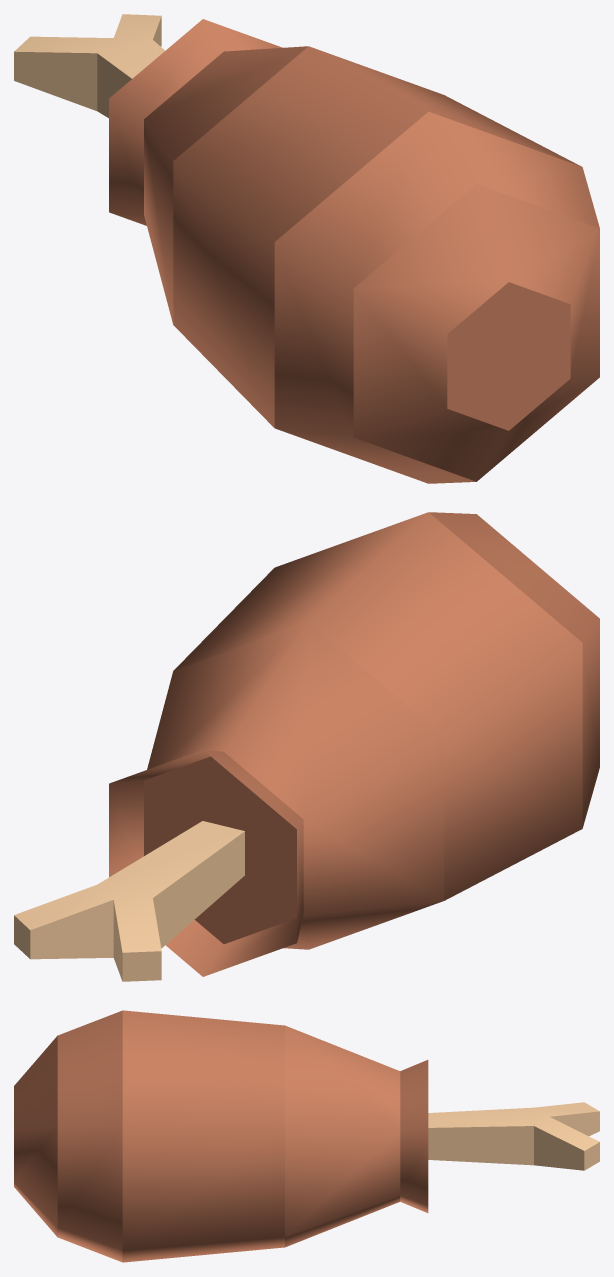
File: wholerHam.dae
The picture shows the model from 3 angles, top to bottom: view 1: azimuth 30°, elevation 25°; view 2: azimuth 150°, elevation 25°; view 3: azimuth 270°, elevation 25°; orthographic projection. The views are drawn at different scales.
Visible parts, largest first — view 1: wholerHam; view 2: wholerHam; view 3: wholerHam.
Boxes of the visible parts, x1,y1,x2,y2 form: wholerHam: (14, 14, 599, 483); wholerHam: (14, 512, 599, 981); wholerHam: (14, 1010, 599, 1262).
Size of the model in its own units: 0.3411 by 0.3938 by 0.8294.
